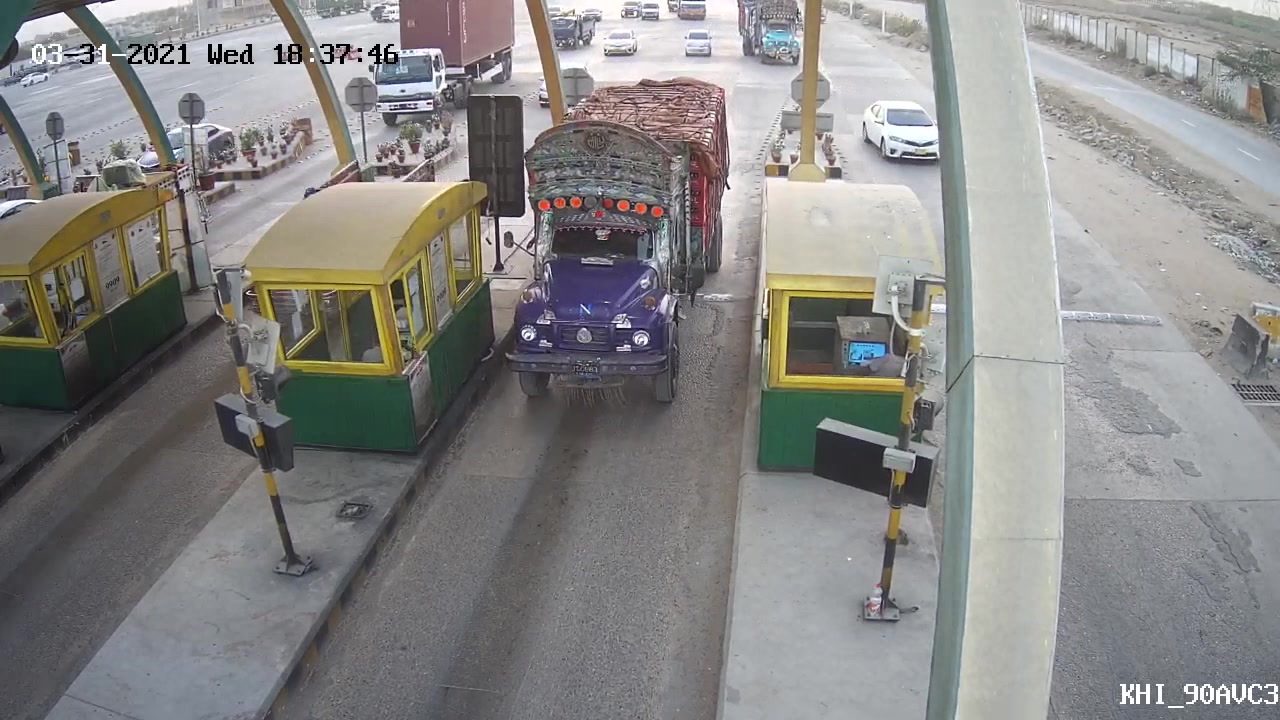F5: (496, 72, 744, 416)
